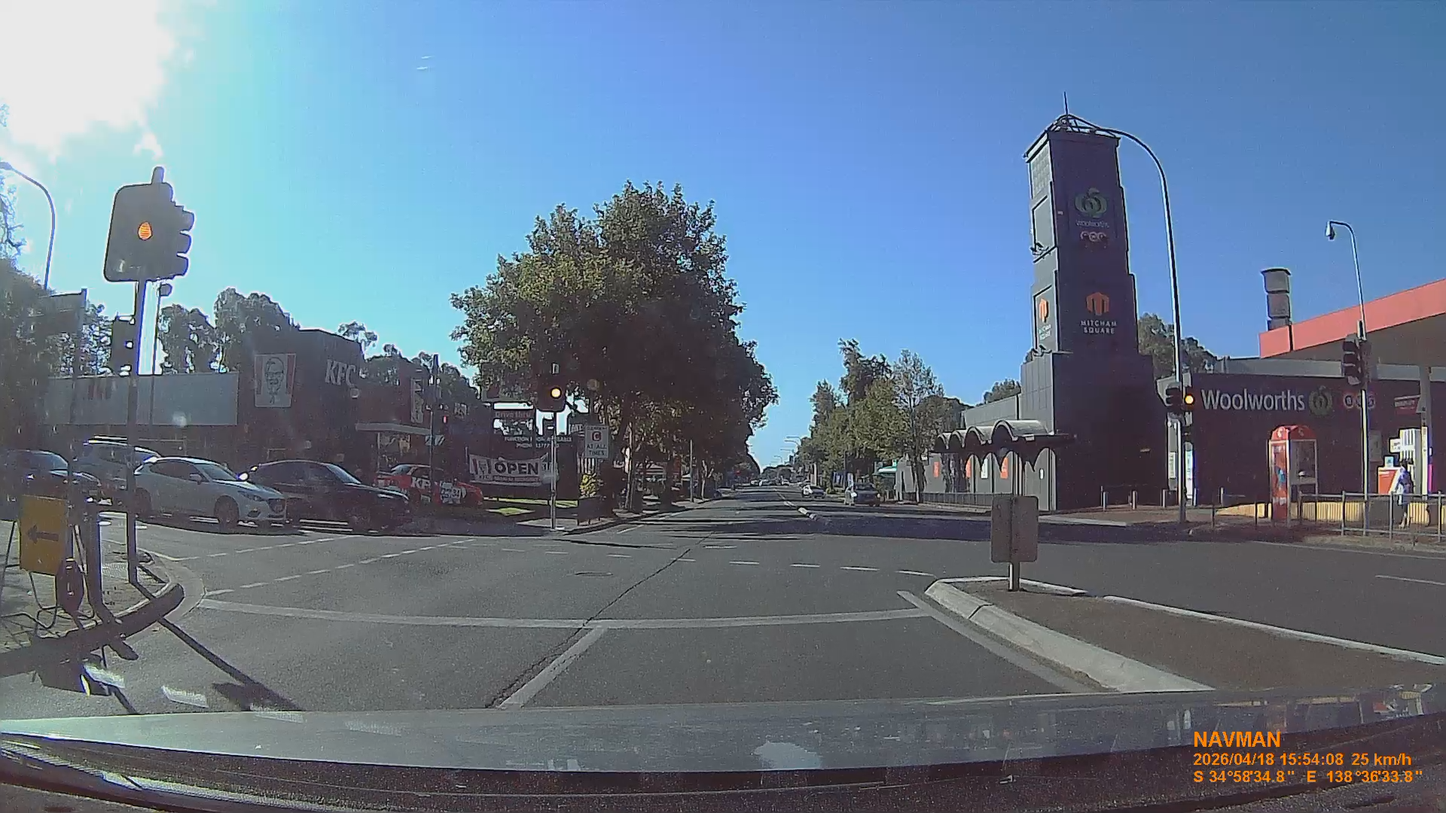fences: (1290, 494, 1445, 539), (920, 492, 993, 511)
